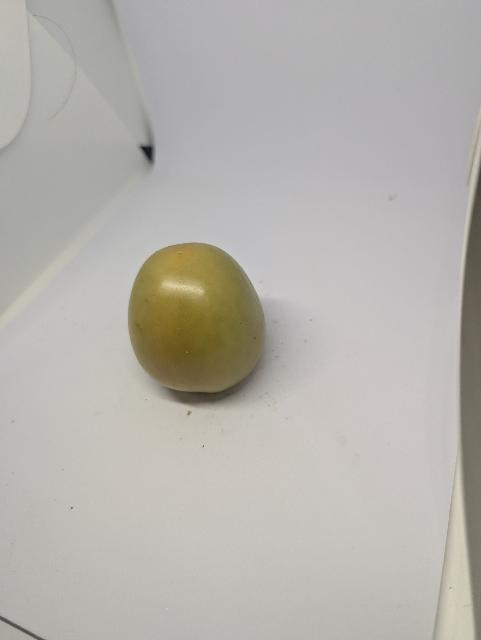breaker: (128, 243, 266, 392)
